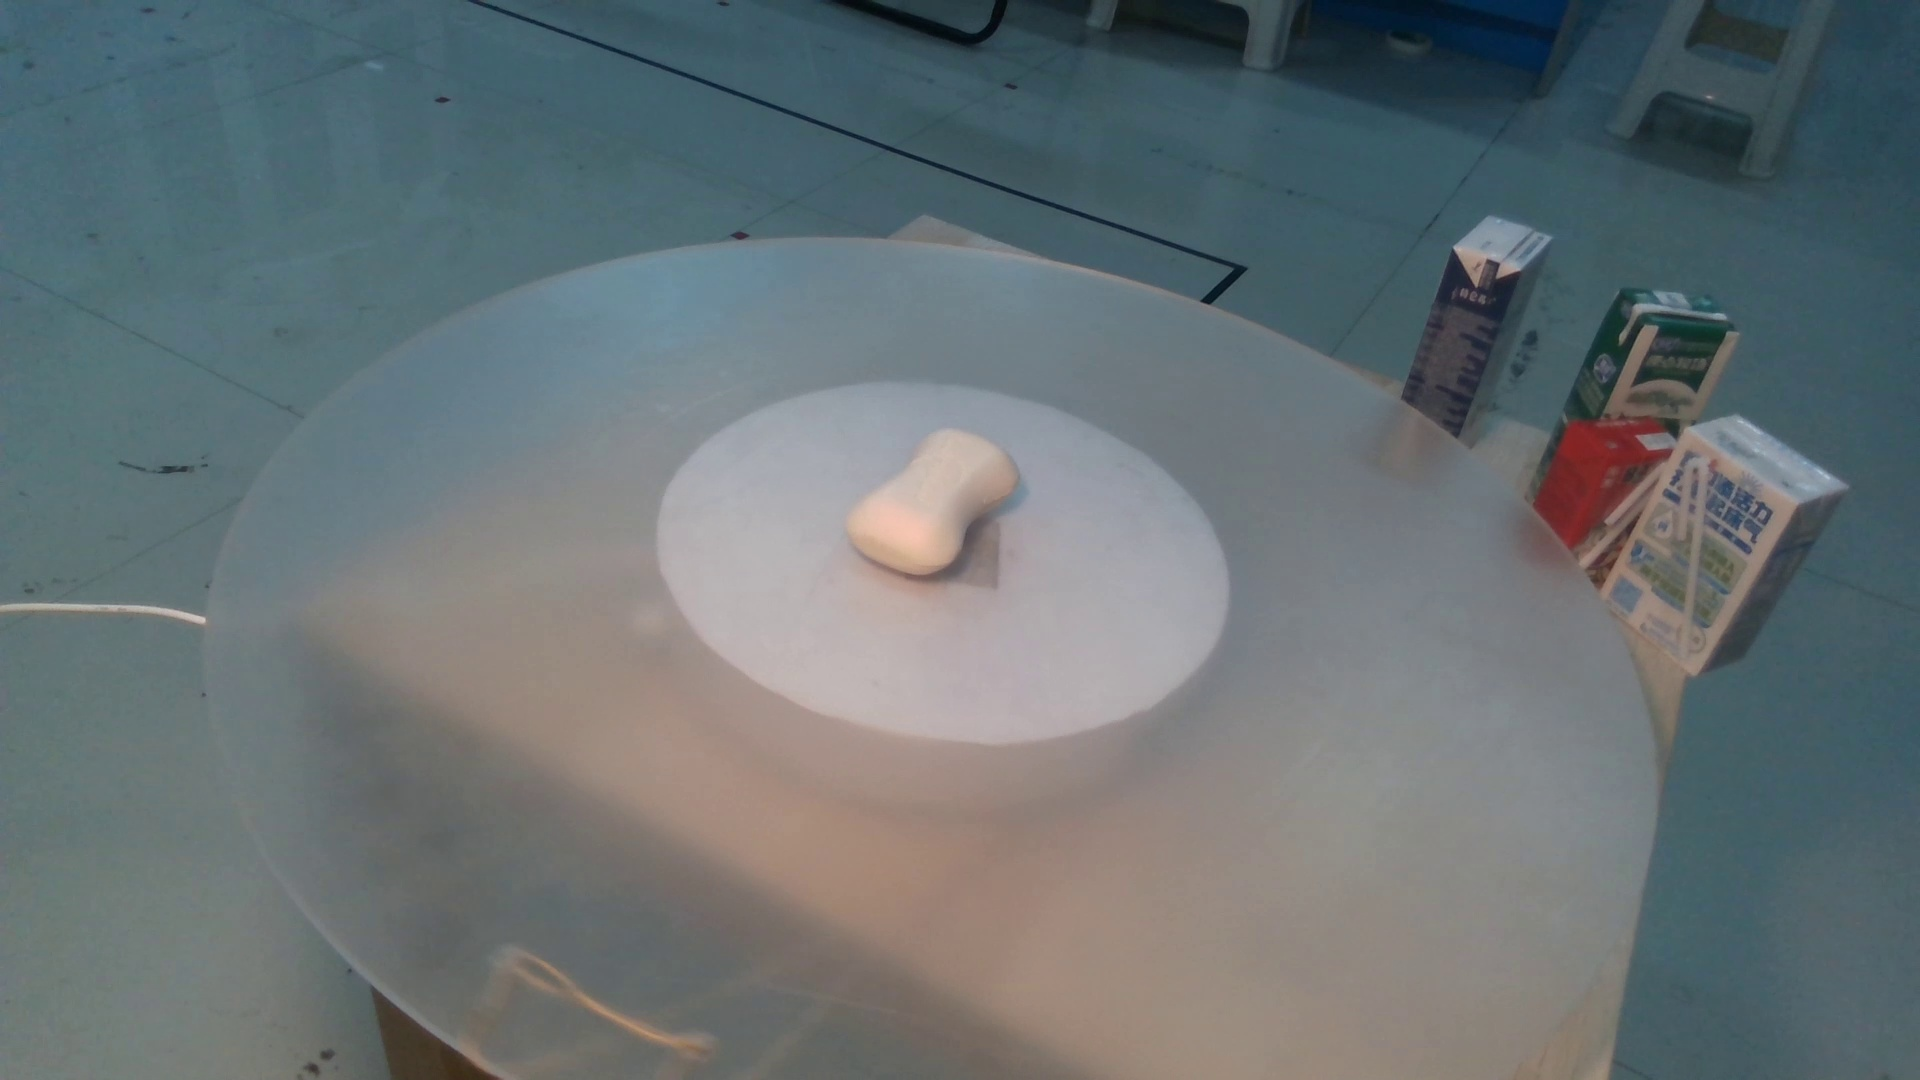CA003_1: (829, 409, 1051, 585)
